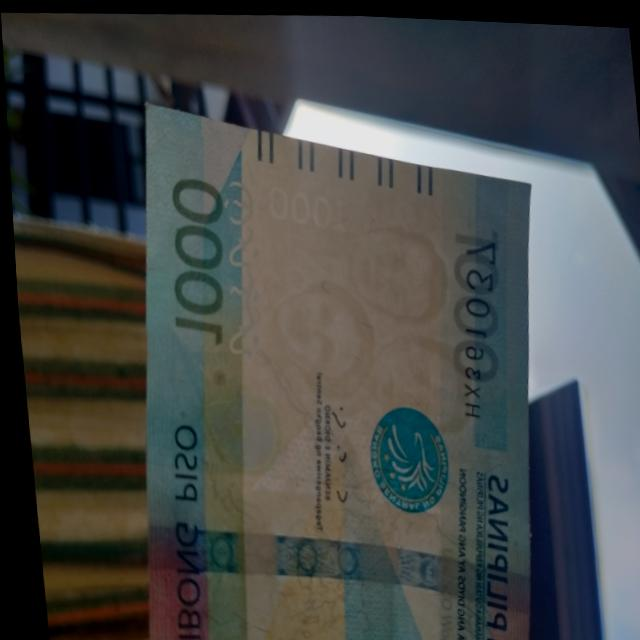security_thread: (133, 505, 530, 629)
see_through_mark: (205, 151, 263, 358)
serial_number: (439, 228, 512, 418)
value_watermark: (256, 181, 356, 233)
watermark: (243, 205, 479, 444)
